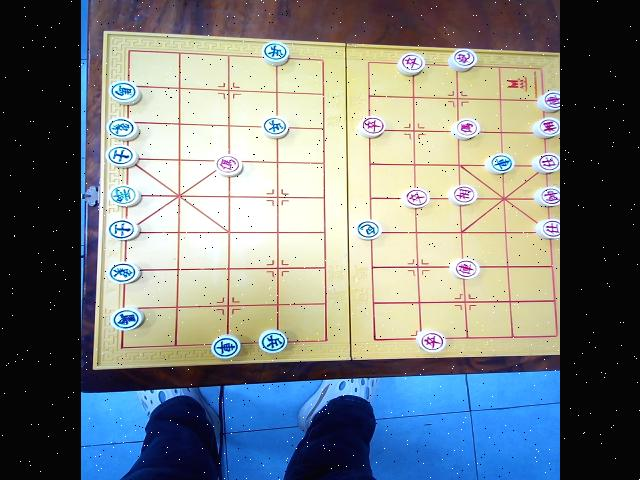piece: (109, 307, 143, 330), (108, 81, 140, 104), (105, 145, 138, 167), (105, 118, 138, 140), (107, 262, 140, 283), (258, 329, 286, 353), (107, 219, 139, 240), (108, 185, 140, 206), (211, 335, 240, 358), (415, 330, 445, 352), (261, 41, 288, 65), (447, 49, 476, 71), (450, 118, 480, 139), (449, 259, 479, 279), (399, 188, 429, 208), (397, 53, 424, 75), (357, 116, 384, 138), (214, 155, 242, 176), (447, 185, 476, 205), (484, 154, 513, 174), (262, 116, 288, 138), (532, 117, 559, 138), (531, 153, 559, 173), (355, 220, 381, 240), (536, 90, 559, 112), (533, 187, 559, 206), (535, 219, 559, 239)
